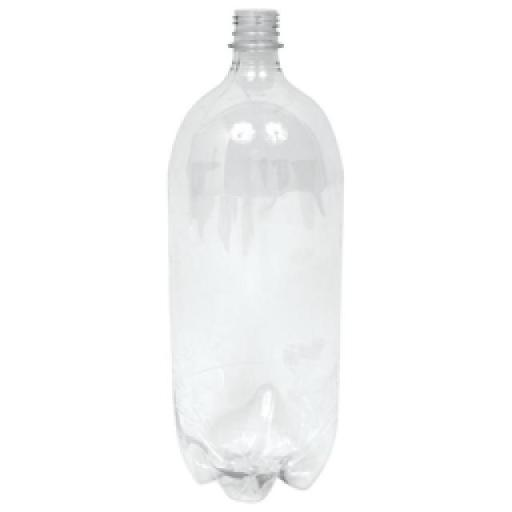plastic: (166, 8, 344, 502)
